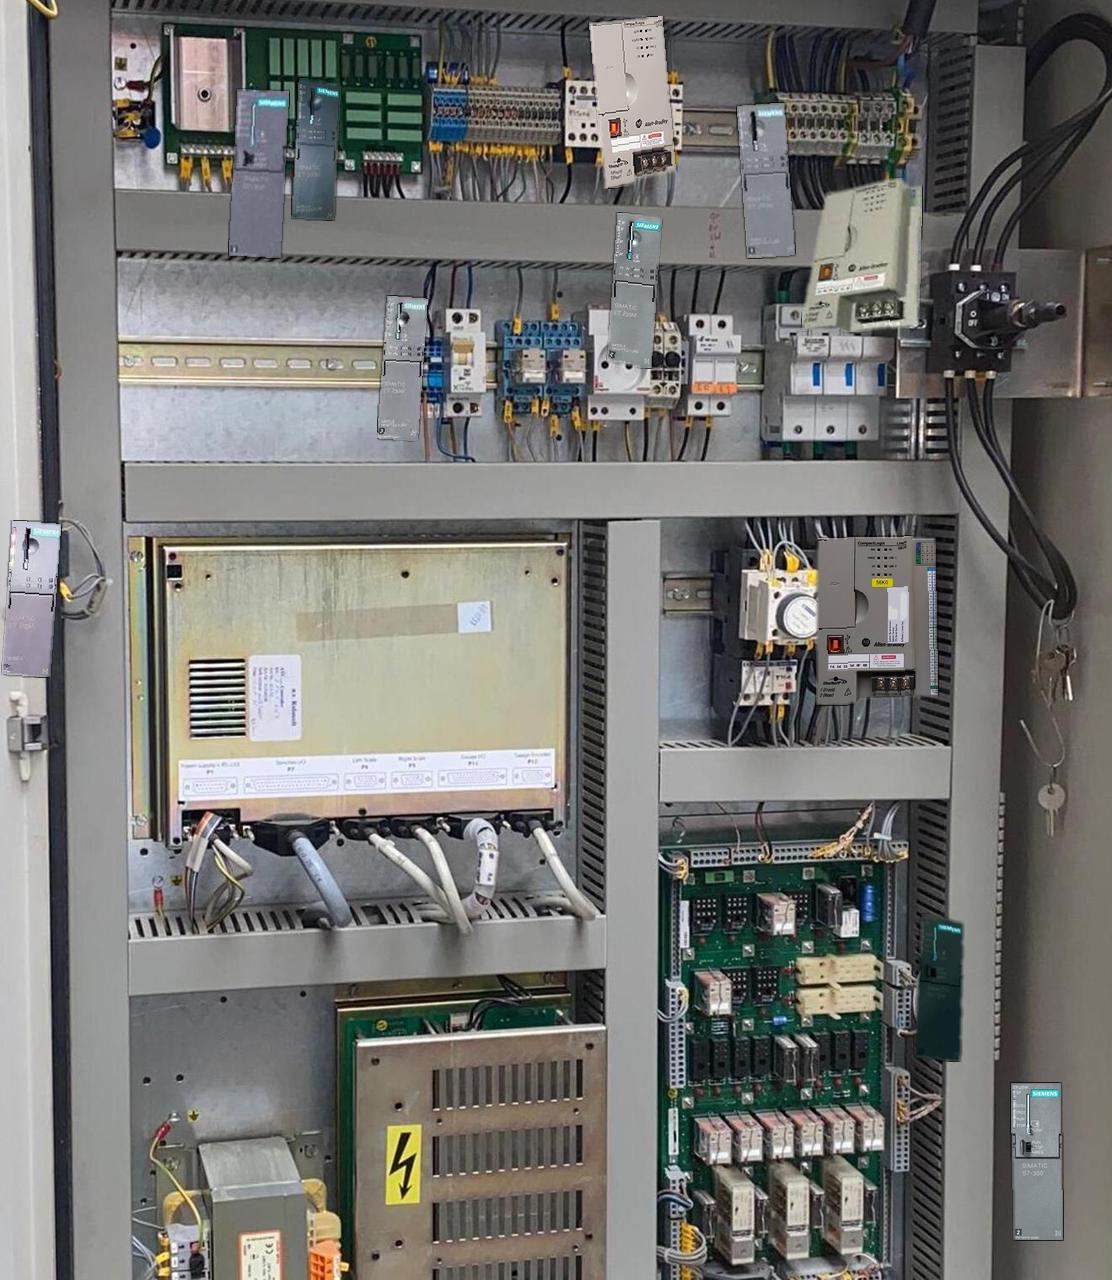AllenBradley: (816, 536, 937, 704), (802, 179, 921, 331), (589, 16, 675, 188)
Siemens: (228, 90, 288, 257), (1011, 1083, 1062, 1239), (914, 914, 962, 1060)
